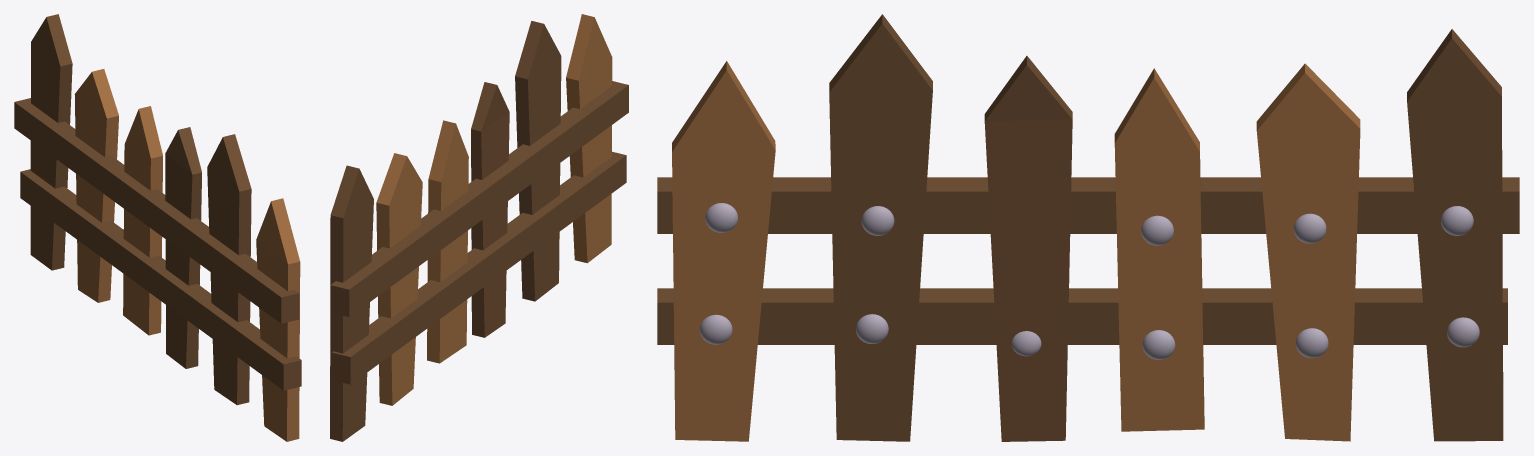
File: vallas.fbx
3 views of the same model, side by side, from view 1: azimuth 30°, elevation 25°; view 2: azimuth 150°, elevation 25°; view 3: azimuth 270°, elevation 25° (orthographic). The views are drawn at different scales.
Parts seen in each view (by area): view 1: Cube.010, Cube.008, Cube.014, Cube.011, Cube.016, Cube.012, Cube.013, Cube.002; view 2: Cube.010, Cube.008, Cube.014, Cube.011, Cube.012, Cube.016, Cube.013, Cube.002; view 3: Cube.014, Cube.011, Cube.016, Cube.012, Cube.013, Cube.002, Cube.008, Cube.010, Sphere.004.
Boxes of the visible parts, box(x1,y1,x2,y2) form: Cube.010: box(14, 98, 299, 323); Cube.008: box(20, 169, 301, 390); Cube.014: box(207, 134, 251, 405); Cube.011: box(30, 14, 72, 270); Cube.016: box(256, 198, 300, 441); Cube.012: box(74, 69, 118, 302); Cube.013: box(165, 127, 201, 368); Cube.002: box(123, 106, 162, 335); Cube.010: box(330, 81, 628, 316); Cube.008: box(331, 151, 626, 384); Cube.014: box(515, 21, 561, 301); Cube.011: box(330, 165, 373, 441); Cube.012: box(376, 153, 422, 405); Cube.016: box(566, 14, 612, 263); Cube.013: box(471, 82, 509, 337); Cube.002: box(427, 120, 468, 363); Cube.014: box(829, 14, 932, 441); Cube.011: box(1407, 29, 1503, 441); Cube.016: box(672, 61, 775, 441); Cube.012: box(1256, 63, 1360, 441); Cube.013: box(984, 56, 1072, 441); Cube.002: box(1114, 68, 1204, 431); Cube.008: box(657, 288, 1507, 344); Cube.010: box(657, 177, 1519, 233); Sphere.004: box(699, 203, 1479, 359).
Size of the model in its own units: 25.31 by 211 by 394.
